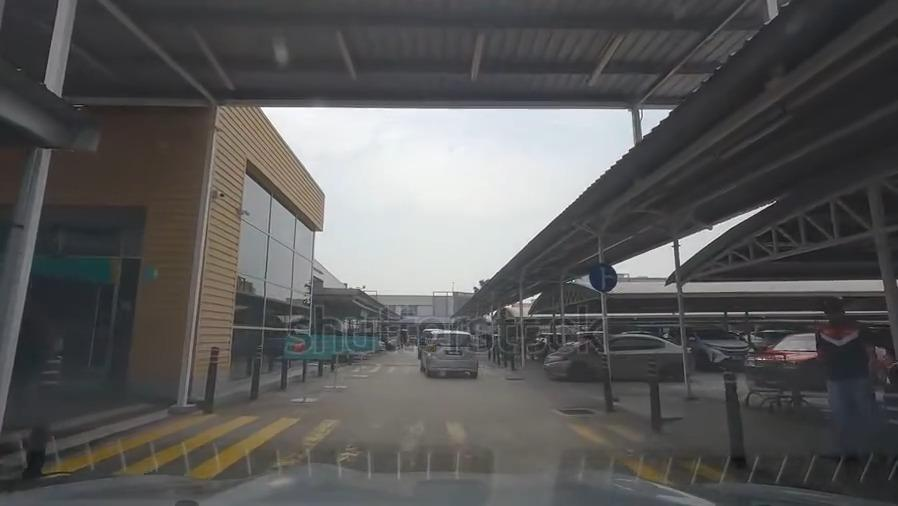car: (549, 335, 695, 379), (676, 327, 749, 369), (754, 335, 817, 383), (425, 329, 478, 379)
manhole: (553, 401, 599, 424), (505, 372, 523, 384)
pedestrian: (28, 418, 664, 475), (349, 367, 504, 376)
person: (814, 301, 883, 461)
speedbump: (351, 359, 493, 369)
